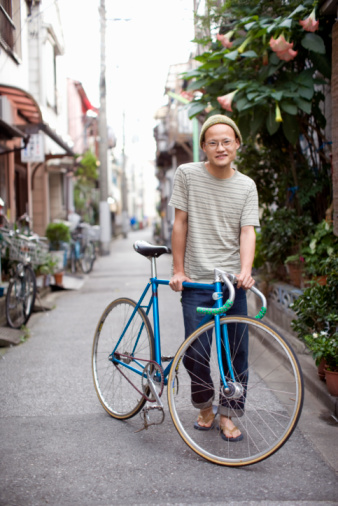em pe: (151, 109, 266, 418)
